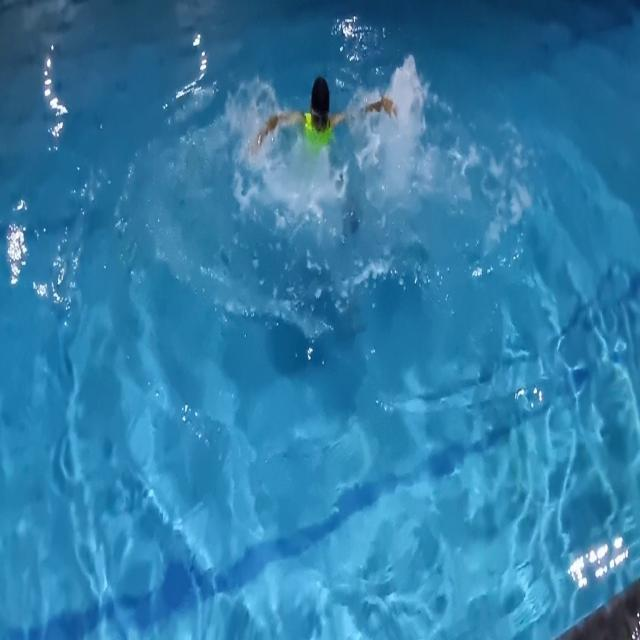Swimming: (245, 54, 440, 255)
